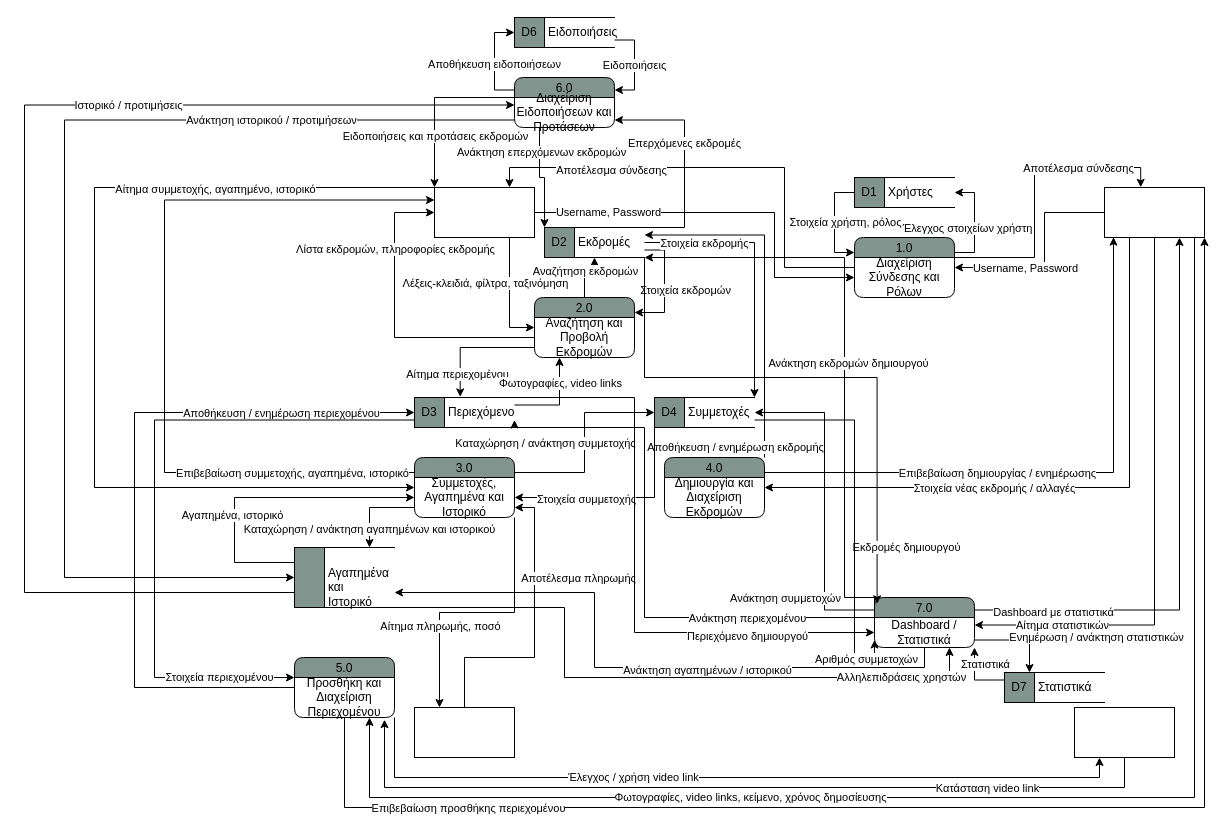
Image size: 1230x833. Some labels were removed from this diagram. The shapes that lost their labels are listed below. From the top down, each one's box as (x1, y1, x2, y2) in pixels, then its label:
(434, 186, 534, 238): Εκδρομέας
(1104, 186, 1204, 238): Δημιουργός Εκδρομών
(294, 546, 324, 608): D5
(414, 706, 514, 758): Εξωτερικό Σύστημα Πληρωμών
(1074, 706, 1174, 758): Εξωτερική Υπηρεσία Βίντεο
